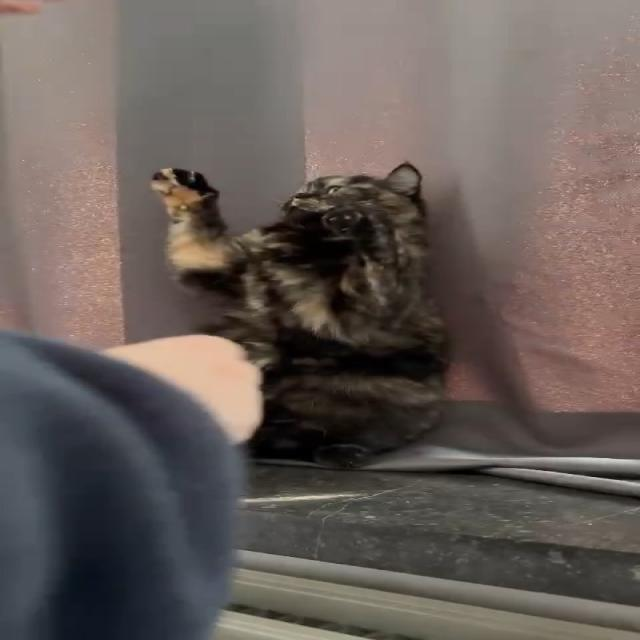authorized: (148, 160, 452, 469)
